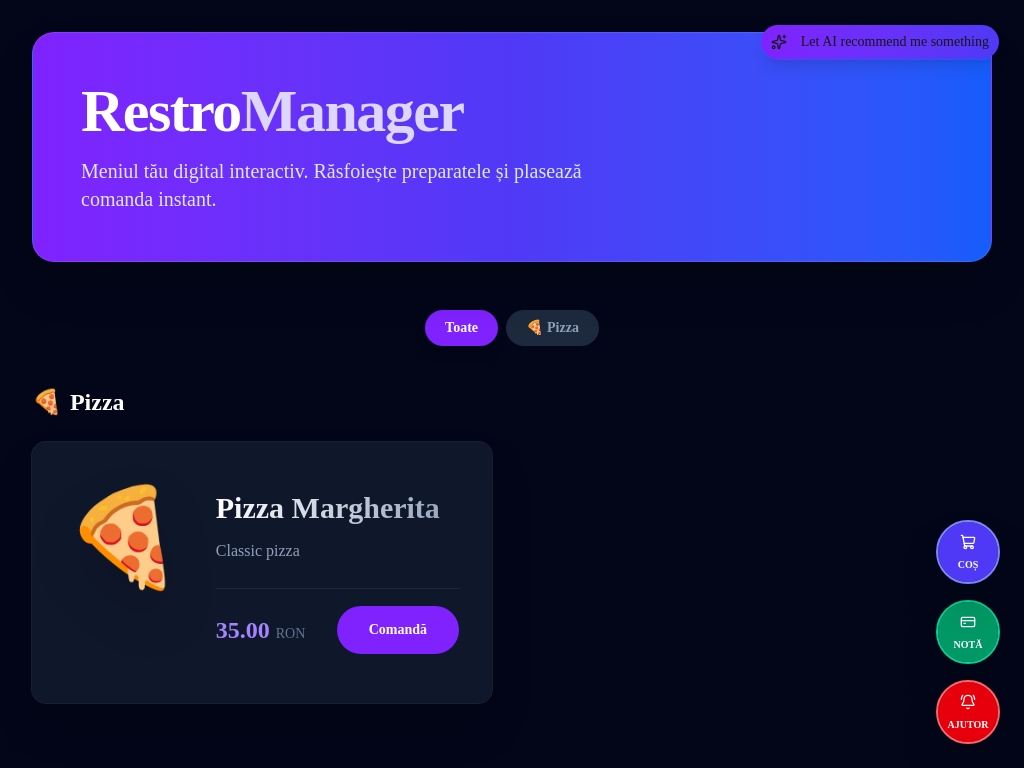
it: Customer Page › can open item dialog and add to cart
Check: the text "Pizza Margherita" is shown, box x1=216 y1=490 x2=460 y2=526
Click the button "Comandă" at (398, 630), box x1=336 y1=605 x2=460 y2=655
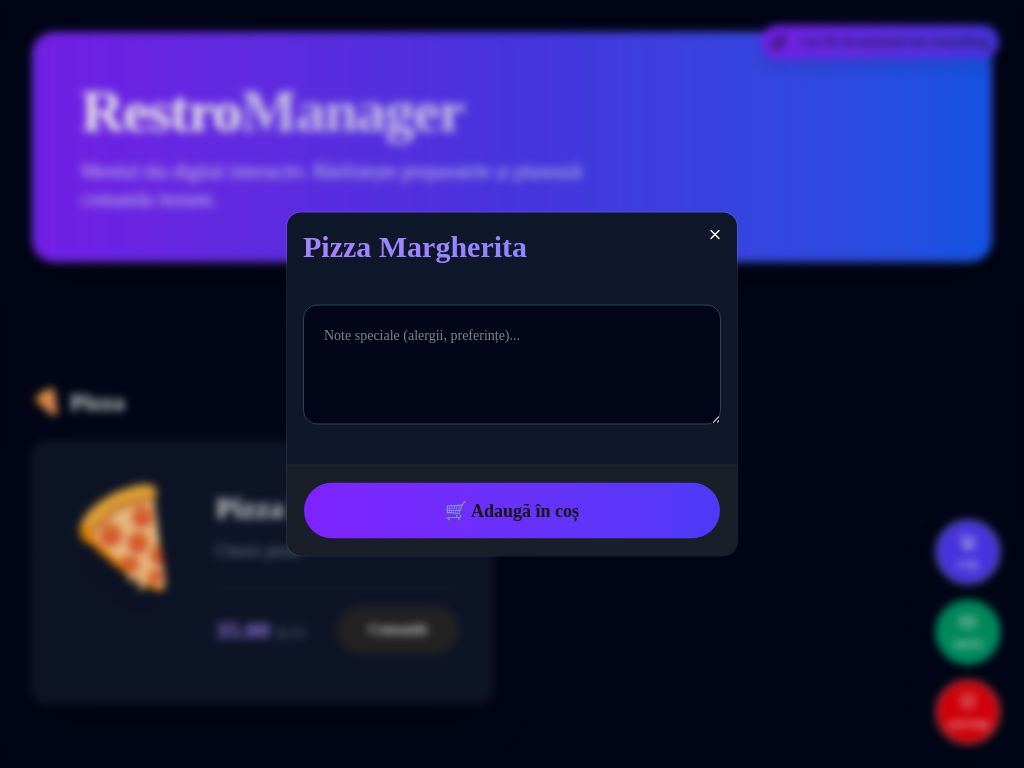
Check: the button "🛒 Adaugă în coș" is shown
Click the button "🛒 Adaugă în coș" at (512, 510), box x1=303 y1=482 x2=721 y2=540
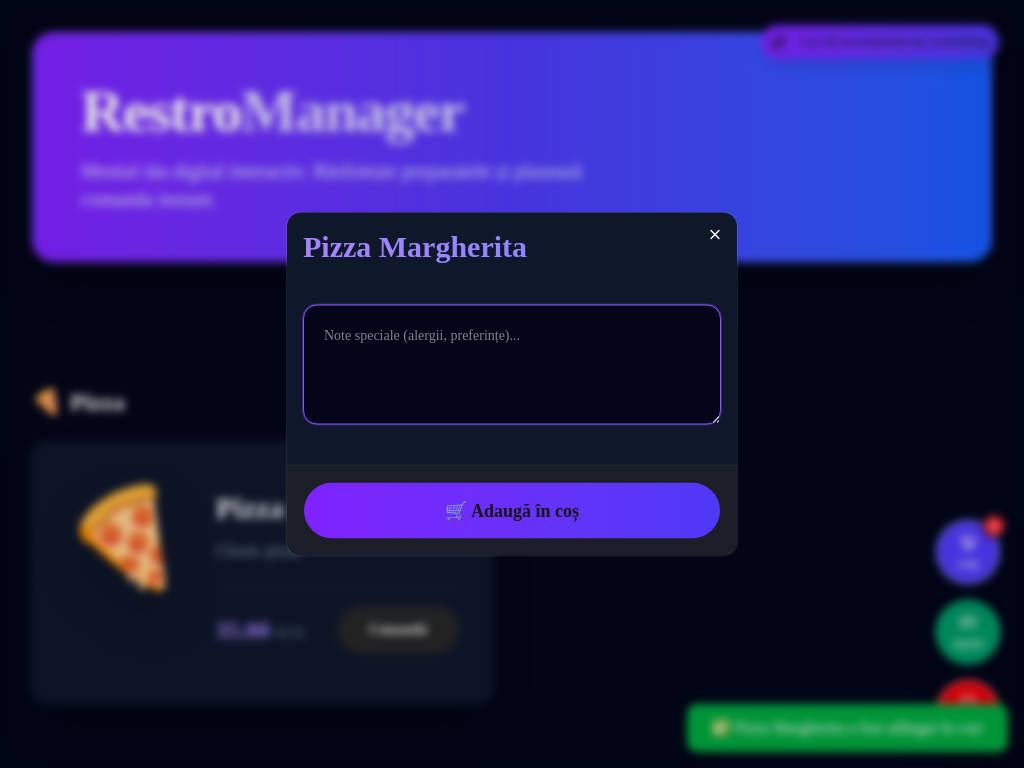
Check: the text "✅ Pizza Margherita a fost adăugat în coș!" is shown, box x1=687 y1=704 x2=1008 y2=752
